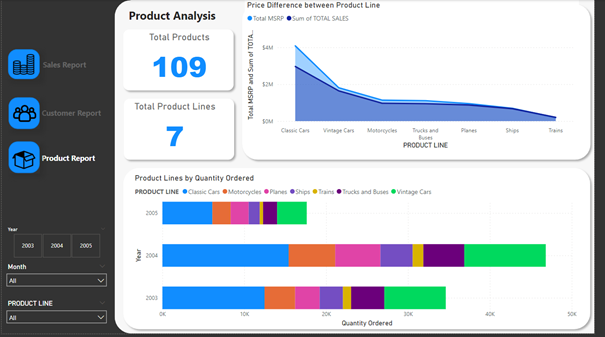

Layout of this report page (visuals, bound fields, positions):
{"tool":"powerbi","page":{"name":"Product","canvas":[1280,720],"ordinal":3},"visuals":[{"type":"shape","box":[243.8,0,1036.2,720],"z":0},{"type":"actionButton","box":[85,103.8,158.8,70],"z":1000},{"type":"actionButton","box":[82.5,208.8,161.2,70],"z":2000},{"type":"actionButton","box":[82,306.3,159.2,67.5],"z":3000},{"type":"shape","box":[253.8,53.8,256.2,150],"z":4000},{"type":"textbox","box":[268.8,12.5,1011.2,61.2],"z":5000},{"type":"card","title":"Total Products","fields":{"Values":["Measure.Total Products"]},"box":[262.5,67.5,241.2,122.5],"z":6000},{"type":"shape","box":[255,203.8,256.2,150],"z":7000},{"type":"card","title":"Total Product Lines","fields":{"Values":["Measure.Total Product Lines"]},"box":[253.8,217.5,241.2,122.5],"z":8000},{"type":"shape","box":[510,0,770,353.8],"z":9000},{"type":"slicer","fields":{"Values":["Date.DATE.Variation.Date Hierarchy.Month"]},"box":[0,562.5,236.2,78.8],"z":10000},{"type":"slicer","fields":{"Values":["Date.DATE.Variation.Date Hierarchy.Year"]},"box":[0,483.8,236.2,78.8],"z":11000},{"type":"slicer","fields":{"Values":["Product.PRODUCT LINE"]},"box":[0,641.2,236.2,78.8],"z":12000},{"type":"shape","box":[253.8,353.8,1026.2,366.2],"z":13000},{"type":"barChart","title":"Product Lines by Quantity Ordered","fields":{"Y":["Sum(Order_details.QUANTITY ORDERED)"],"Series":["Product.PRODUCT LINE"],"Category":["Date.DATE.Variation.Date Hierarchy.Year","Date.DATE.Variation.Date Hierarchy.Quarter","Date.DATE.Variation.Date Hierarchy.Month","Date.DATE.Variation.Date Hierarchy.Day"]},"box":[282.5,373.8,963.8,336.2],"z":14000},{"type":"areaChart","title":"Price Difference between Product Line","fields":{"Category":["Product.PRODUCT LINE"],"Y":["Product.Total MSRP","Sum(Order_details.TOTAL SALES)"]},"box":[525,0,721.2,326.2],"z":15000},{"type":"shape","box":[13.8,106.2,68.8,65],"z":16000},{"type":"image","box":[16.2,111.2,63.8,55],"z":17000},{"type":"shape","box":[15,210,67.5,68.8],"z":18000},{"type":"shape","box":[14.5,305.1,67.5,68.7],"z":19000},{"type":"image","box":[17.5,213.8,62.5,62.5],"z":20000},{"type":"image","box":[16.9,309.9,61.5,60.3],"z":21000}]}

Visuals, with their boxes in screenshot pixels (x1, y1, x2, y2), scaled from the page's 1280x720 canvas onto the 605x337 screenshot:
shape: Rect(115, 0, 604, 336)
actionButton: Rect(40, 49, 115, 81)
actionButton: Rect(39, 98, 115, 130)
actionButton: Rect(39, 143, 114, 175)
shape: Rect(120, 25, 241, 95)
textbox: Rect(127, 6, 604, 34)
"Total Products" card: Rect(124, 32, 238, 89)
shape: Rect(121, 95, 242, 166)
"Total Product Lines" card: Rect(120, 102, 234, 159)
shape: Rect(241, 0, 604, 166)
slicer - Date.DATE.Variation.Date Hierarchy.Month: Rect(0, 263, 112, 300)
slicer - Date.DATE.Variation.Date Hierarchy.Year: Rect(0, 226, 112, 263)
slicer - Product.PRODUCT LINE: Rect(0, 300, 112, 336)
shape: Rect(120, 166, 604, 336)
"Product Lines by Quantity Ordered" barChart: Rect(134, 175, 589, 332)
"Price Difference between Product Line" areaChart: Rect(248, 0, 589, 153)
shape: Rect(7, 50, 39, 80)
image: Rect(8, 52, 38, 78)
shape: Rect(7, 98, 39, 130)
shape: Rect(7, 143, 39, 175)
image: Rect(8, 100, 38, 129)
image: Rect(8, 145, 37, 173)
